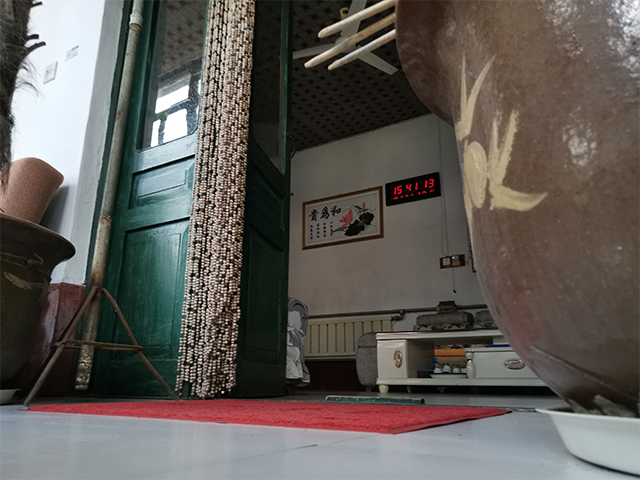carpet: (15, 395, 513, 436)
table: (373, 329, 549, 396)
